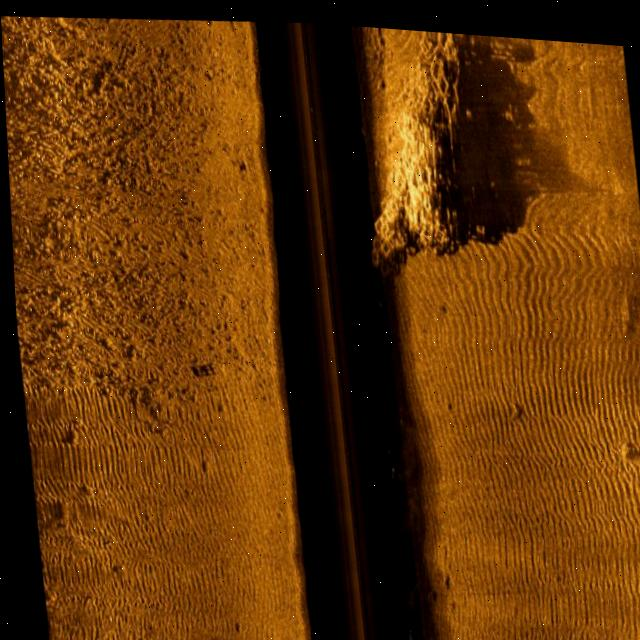artificial reef: (345, 20, 482, 271)
